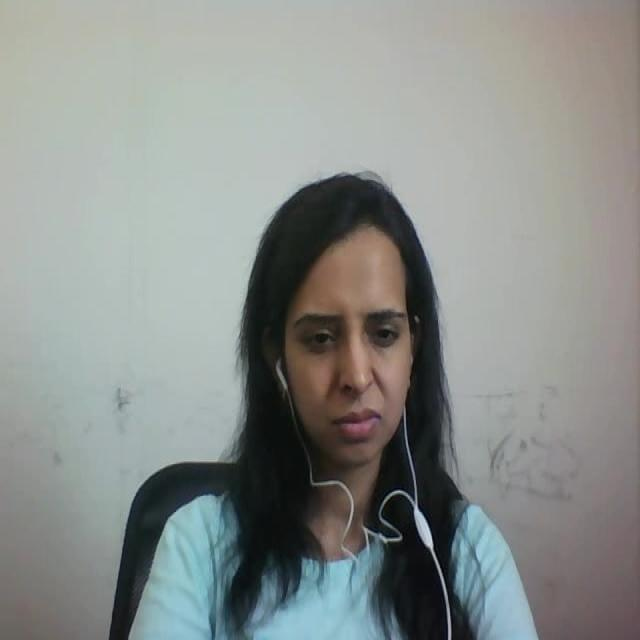Bored: (238, 152, 460, 487)
